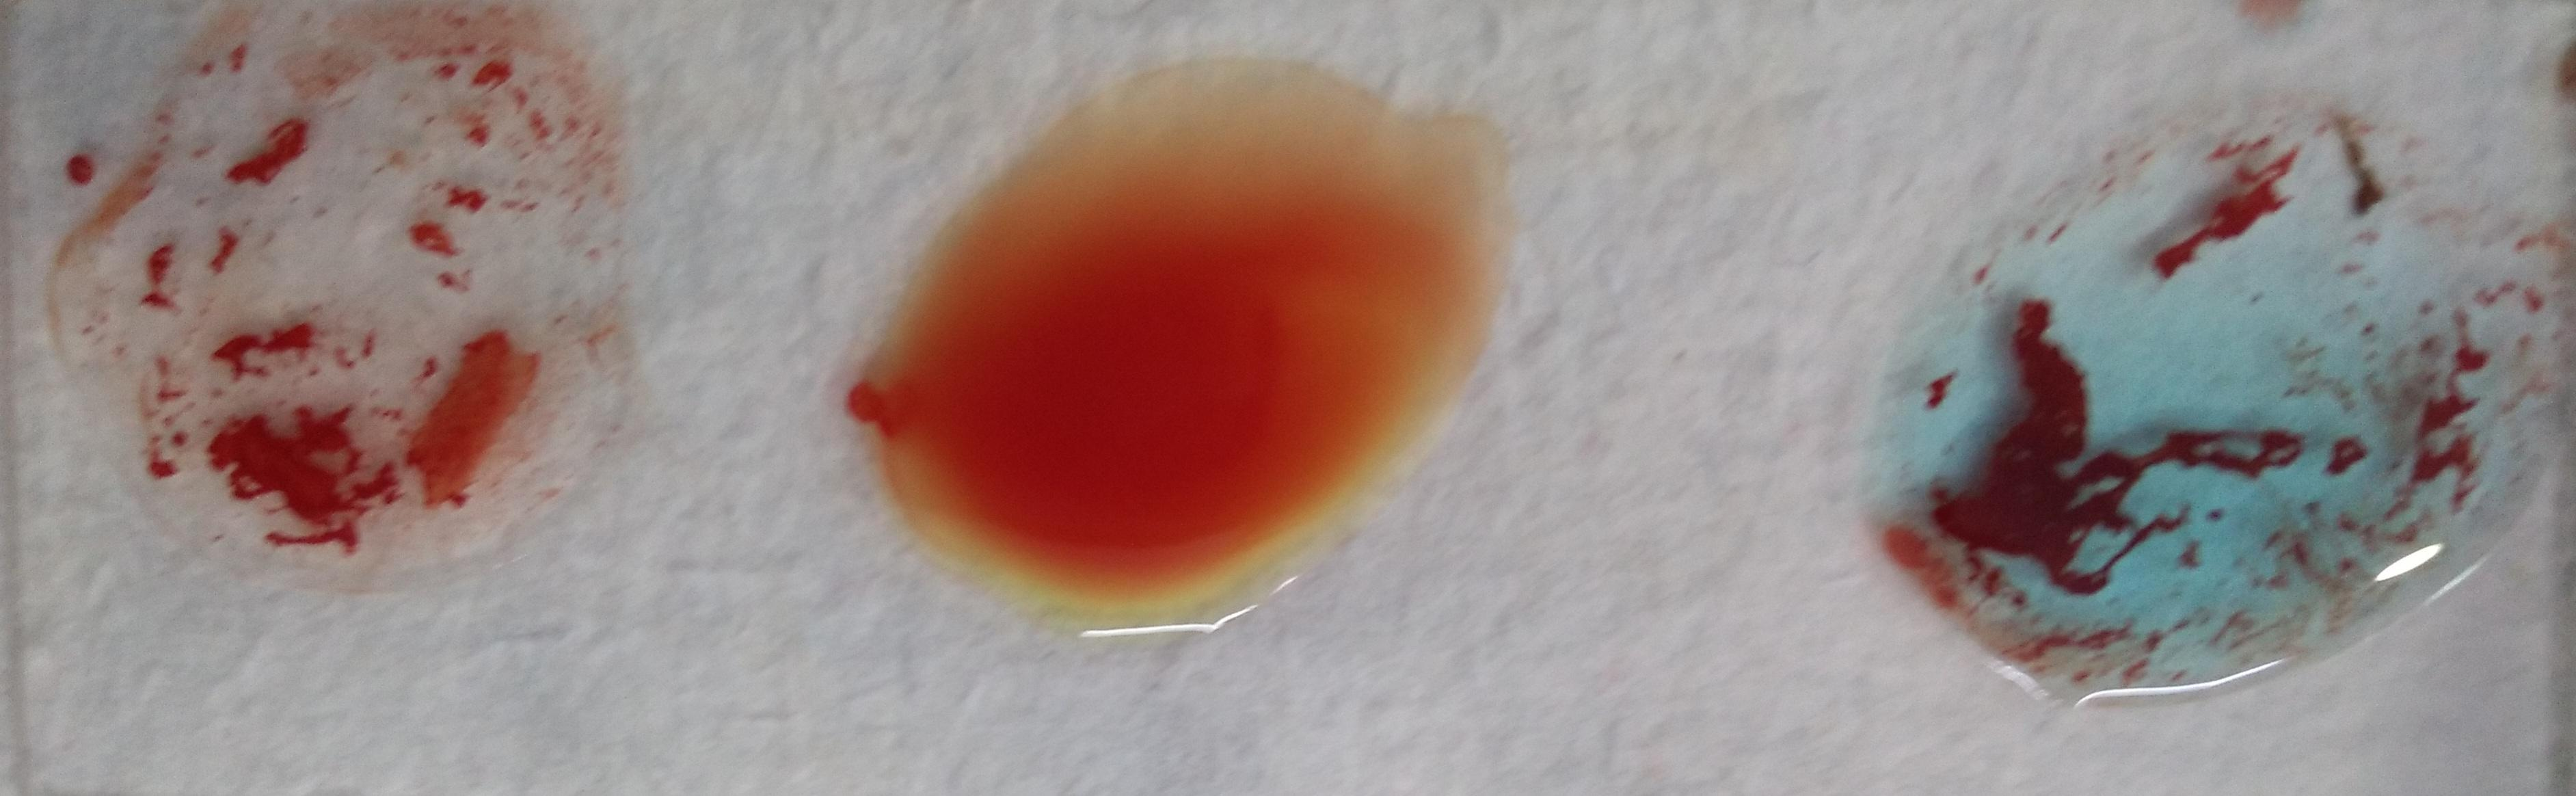A: (1904, 118, 2499, 702)
D: (82, 15, 655, 607)
